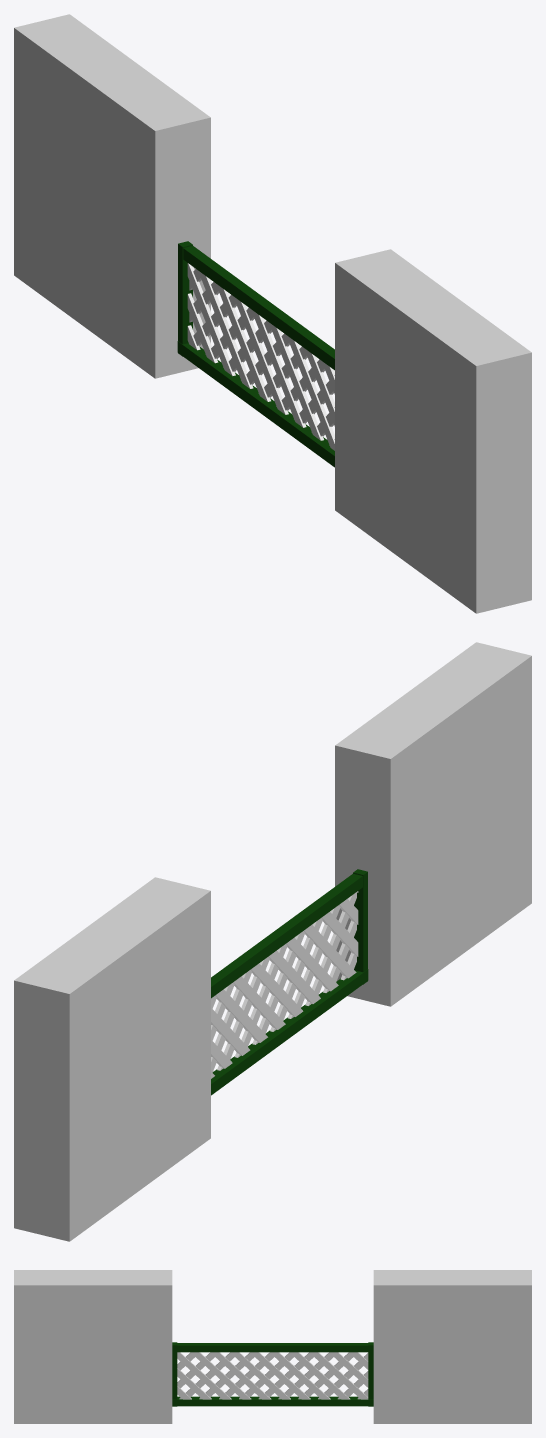
The model's file is fenceBetterOrigin.fbx.
The picture shows the model from 3 angles, top to bottom: view 1: azimuth 30°, elevation 25°; view 2: azimuth 150°, elevation 25°; view 3: azimuth 270°, elevation 25°; orthographic projection. The views are drawn at different scales.
Parts seen in each view (by area): view 1: Cube.006, Cube.004, Cube, Cube.002, Cube.001, Cube.003, Cube.005; view 2: Cube.004, Cube.006, Cube, Cube.003, Cube.002, Cube.001, Cube.007; view 3: Cube.004, Cube.006, Cube.003, Cube, Cube.002, Cube.001, Cube.005, Cube.007.
Part boxes in pixels (x1=…): Cube.006: x1=335, y1=249, x2=531, y2=613; Cube.004: x1=14, y1=14, x2=210, y2=378; Cube: x1=187, y1=263, x2=334, y2=450; Cube.002: x1=183, y1=246, x2=334, y2=370; Cube.001: x1=177, y1=341, x2=334, y2=467; Cube.003: x1=189, y1=269, x2=334, y2=445; Cube.005: x1=178, y1=241, x2=192, y2=356; Cube.004: x1=14, y1=877, x2=210, y2=1241; Cube.006: x1=335, y1=642, x2=531, y2=1006; Cube: x1=211, y1=891, x2=358, y2=1078; Cube.003: x1=211, y1=892, x2=356, y2=1072; Cube.002: x1=211, y1=873, x2=362, y2=998; Cube.001: x1=211, y1=969, x2=368, y2=1095; Cube.007: x1=353, y1=869, x2=367, y2=984; Cube.004: x1=373, y1=1270, x2=531, y2=1423; Cube.006: x1=14, y1=1270, x2=172, y2=1423; Cube.003: x1=177, y1=1352, x2=368, y2=1399; Cube: x1=177, y1=1352, x2=368, y2=1399; Cube.002: x1=172, y1=1343, x2=373, y2=1352; Cube.001: x1=172, y1=1396, x2=373, y2=1406; Cube.005: x1=368, y1=1342, x2=373, y2=1406; Cube.007: x1=172, y1=1342, x2=177, y2=1406.
Bounding box in the file's own units: 154 × 655 × 2214.
